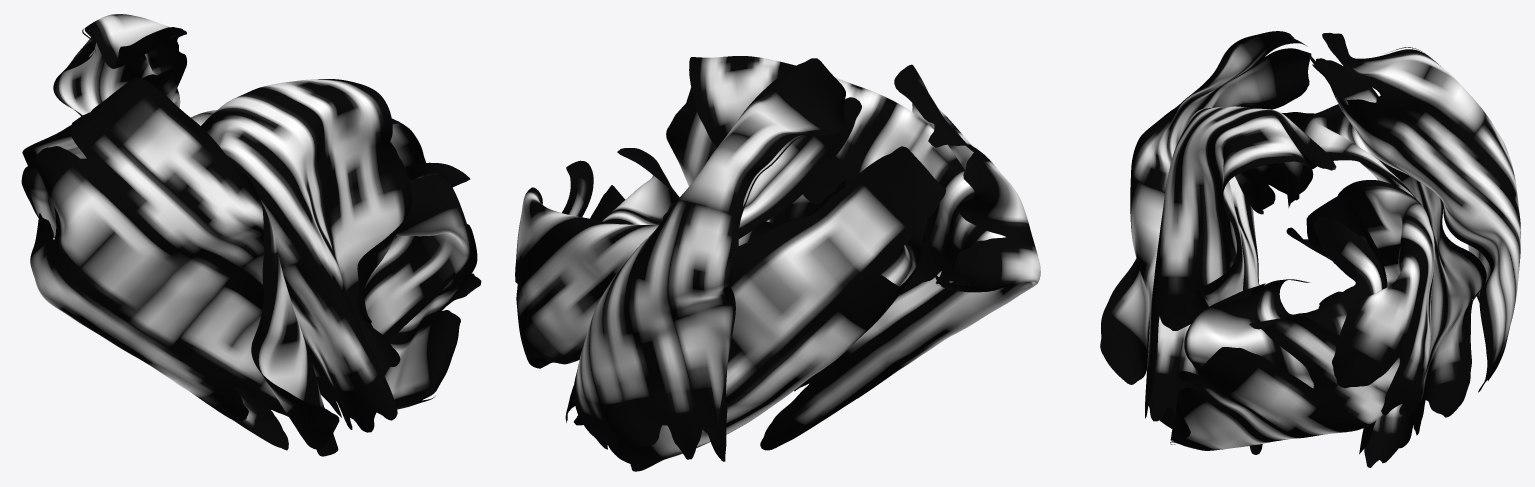
Rendered from Crumple_002.fbx.
3 renders of one model, left to right at view 1: azimuth 30°, elevation 25°; view 2: azimuth 150°, elevation 25°; view 3: azimuth 270°, elevation 25°, orthographic. The views are drawn at different scales.
Parts seen in each view (by area): view 1: paper; view 2: paper; view 3: paper.
Part boxes in pixels (left/top/right/bottom): paper: left=21, top=14, right=481, bottom=456; paper: left=515, top=56, right=1040, bottom=471; paper: left=1100, top=31, right=1520, bottom=467.
Bounding box in the file's own units: 96.86 × 92.46 × 92.98.
